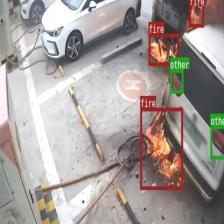fire: (140, 108, 183, 188), (148, 33, 178, 65), (188, 0, 204, 26)
